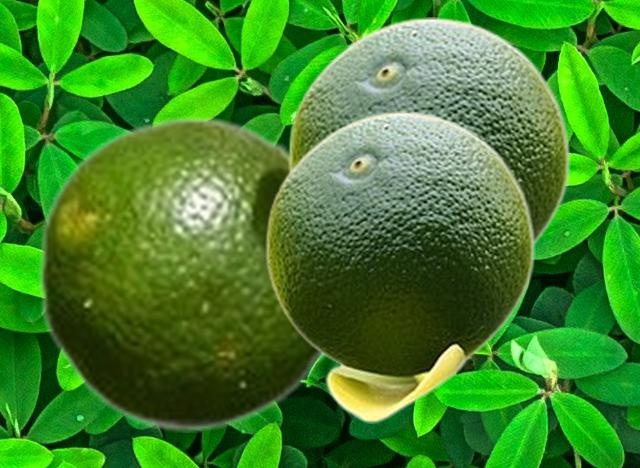calamansi: (36, 115, 326, 431), (265, 111, 534, 422), (288, 17, 569, 247)
